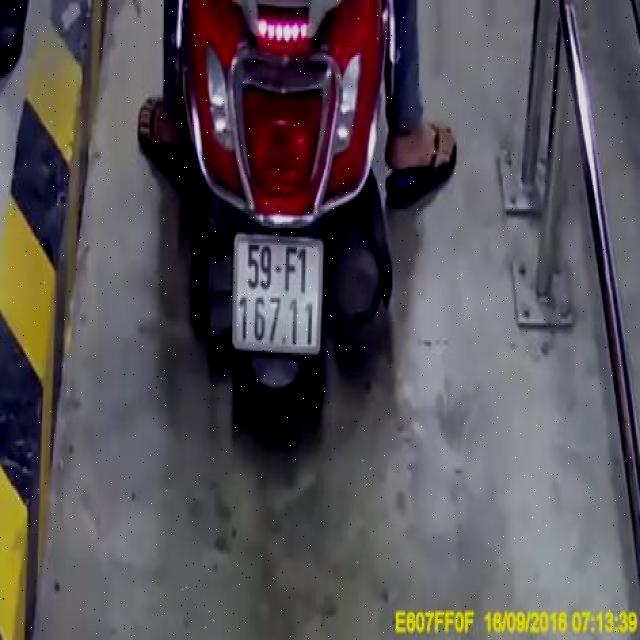1: (288, 298, 300, 346), (303, 299, 314, 347), (238, 295, 249, 341), (298, 246, 308, 294)
5: (247, 242, 260, 290)
6: (253, 294, 267, 342)
7: (268, 295, 282, 345)
9: (260, 243, 273, 290)
F: (284, 244, 297, 292)
